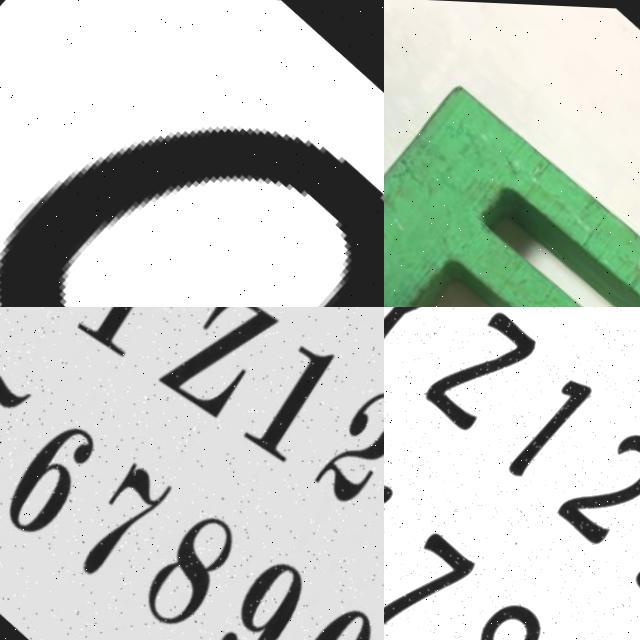0: (250, 562, 384, 640)
1: (216, 307, 381, 483), (489, 357, 614, 496)
2: (541, 396, 640, 567), (285, 351, 384, 521)
5: (0, 344, 66, 524)
6: (0, 394, 129, 567), (384, 440, 424, 613)
7: (36, 425, 210, 612), (384, 509, 493, 640)
8: (117, 477, 281, 640), (417, 568, 568, 640)
9: (184, 515, 356, 640)
F: (384, 61, 640, 307)
G: (0, 0, 384, 307)
